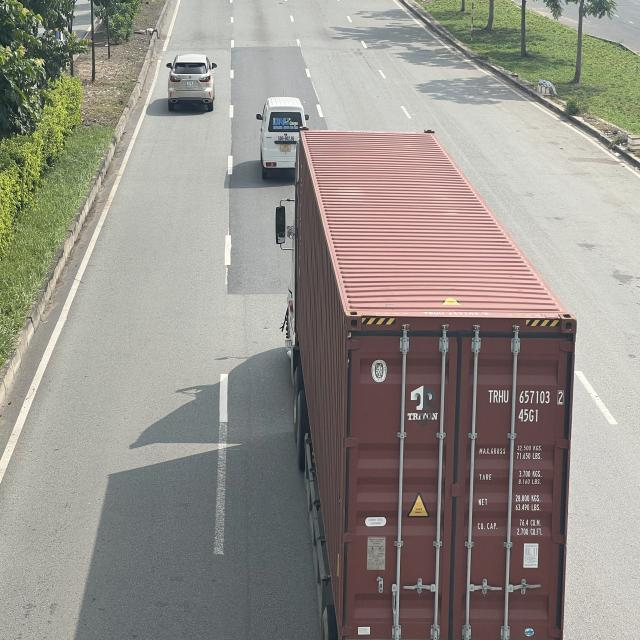car: (168, 52, 218, 109)
container: (274, 127, 580, 640)
van: (258, 97, 310, 180)
